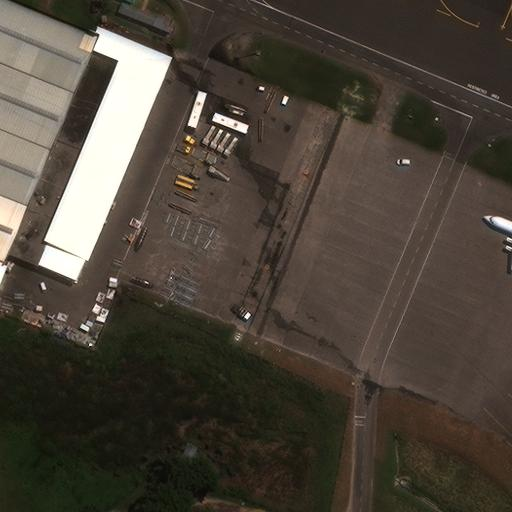Medium Civil Transport: (483, 207, 512, 270)
